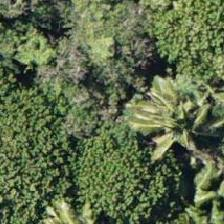coconut_tree: (130, 71, 220, 161), (121, 65, 211, 155)
